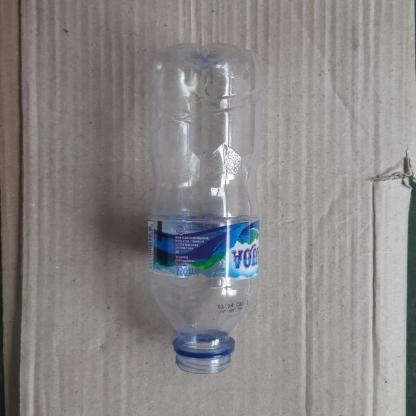Plastic Bottle: (148, 43, 260, 375)
